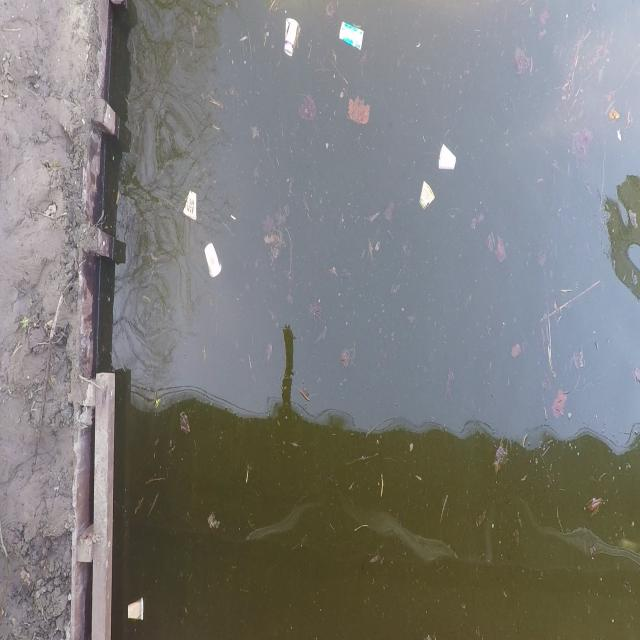Non plastique: (338, 12, 366, 56), (202, 238, 224, 286), (280, 17, 304, 60), (434, 140, 460, 178), (179, 181, 201, 225), (126, 593, 150, 627), (416, 182, 440, 215)
